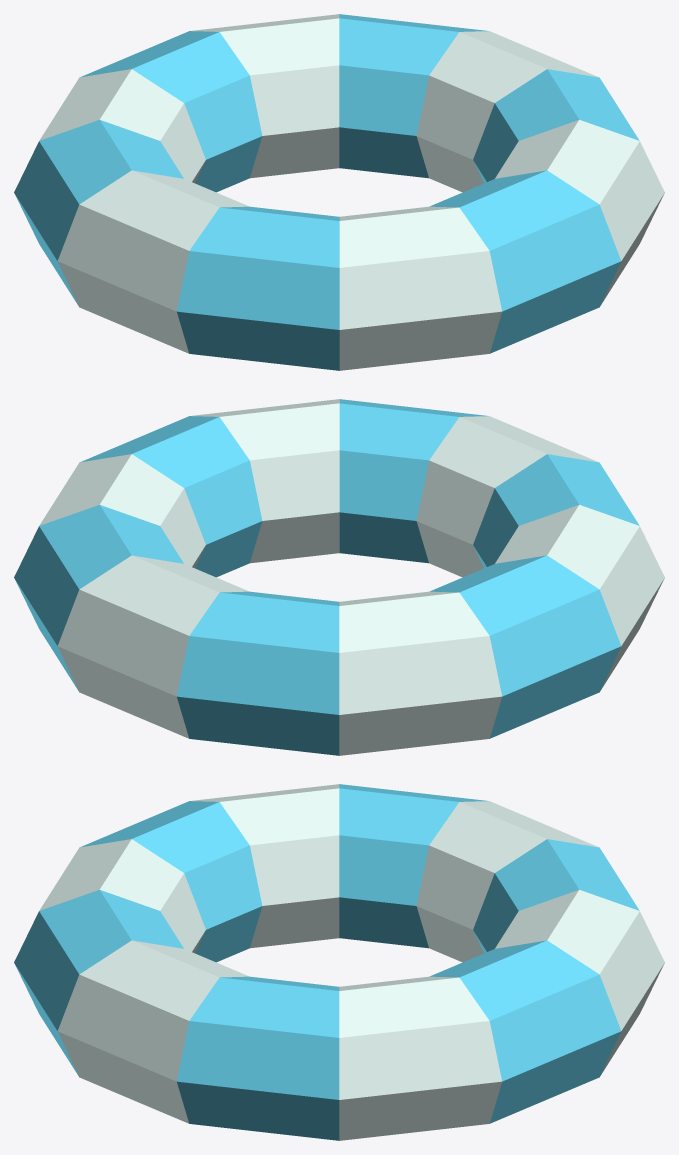
Rendered from SwimmingRing_A.fbx.
The picture shows the model from 3 angles, top to bottom: view 1: azimuth 30°, elevation 25°; view 2: azimuth 150°, elevation 25°; view 3: azimuth 270°, elevation 25°; orthographic projection.
Parts seen in each view (by area): view 1: SwimmingRing_A; view 2: SwimmingRing_A; view 3: SwimmingRing_A.
Part boxes in pixels (x1,y1,x2,y2): SwimmingRing_A: [14, 14, 664, 370]; SwimmingRing_A: [14, 399, 664, 755]; SwimmingRing_A: [14, 784, 664, 1140].
Size of the model in its own units: 60 by 14.8 by 60.
